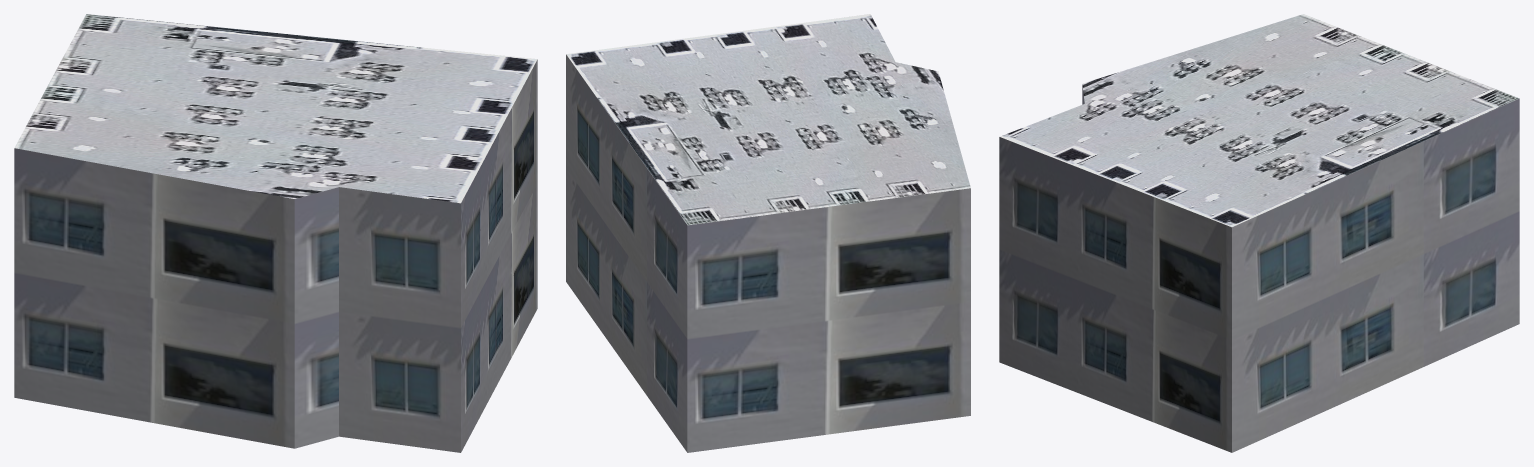
Rendered from ResTex__1685.fbx.
3 renders of one model, left to right at view 1: azimuth 30°, elevation 25°; view 2: azimuth 150°, elevation 25°; view 3: azimuth 270°, elevation 25°, orthographic. The views are drawn at different scales.
Parts seen in each view (by area): view 1: CityEngineMaterial_10_m, CityEngineMaterial_m; view 2: CityEngineMaterial_10_m, CityEngineMaterial_m; view 3: CityEngineMaterial_10_m, CityEngineMaterial_m.
Part boxes in pixels (x1,y1,x2,y2): CityEngineMaterial_10_m: (14, 59, 537, 452); CityEngineMaterial_m: (14, 14, 537, 203); CityEngineMaterial_10_m: (566, 54, 970, 452); CityEngineMaterial_m: (566, 14, 970, 225); CityEngineMaterial_10_m: (999, 84, 1519, 452); CityEngineMaterial_m: (999, 14, 1518, 227).
Bounding box in the file's own units: 12.17 × 6 × 12.54.
Materials: 2 (2 with a texture image).
